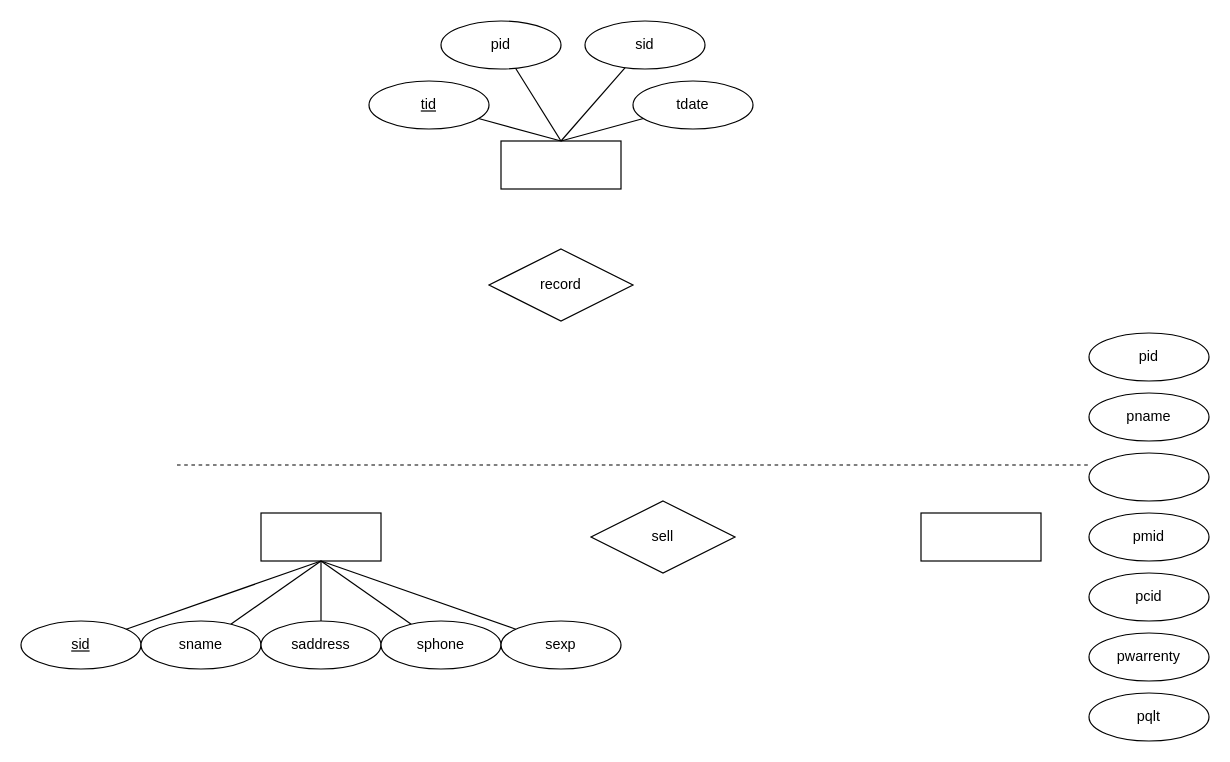
Some shapes in this 1230 by 762 pixel diagram are drawn without their labels. The shapes that lost their labels are listed below. From the top down, each one's box as (x1, y1, x2, y2) in pixels, then its label:
(500, 140, 621, 189): Transaction Records
(1088, 452, 1209, 501): pprice
(260, 512, 381, 561): Salesperson
(920, 512, 1041, 561): part
